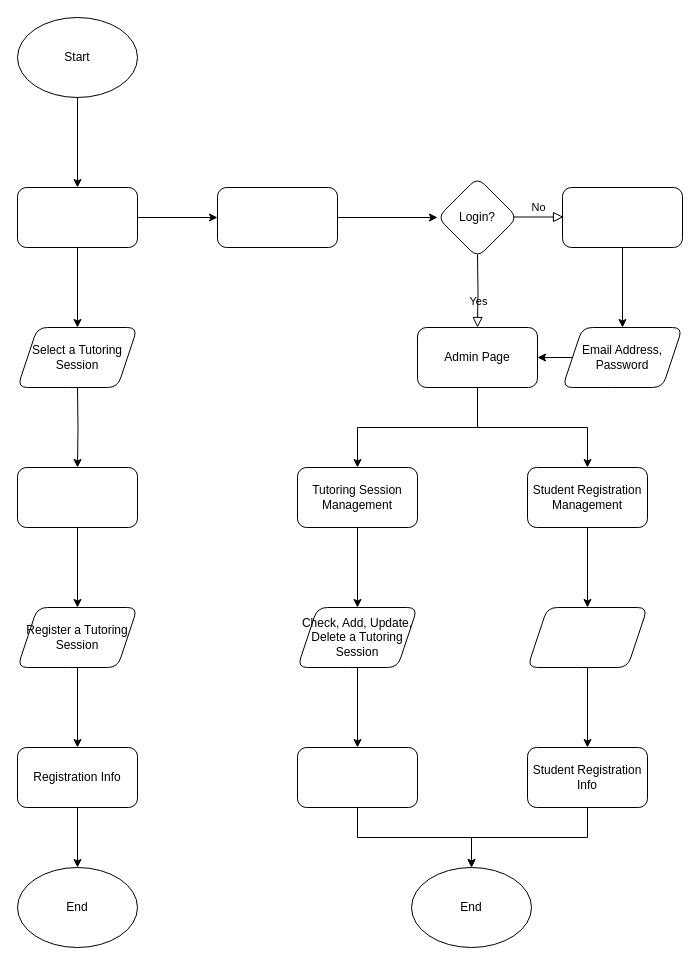
The diagram is 700 pixels wide and 965 high, and some of its shapes have lost their labels. The centre of each missing label's shape, as x and y in pixels:
Check the Student Registration: (x=587, y=637)
Enter the Website: (x=77, y=217)
Login: (x=622, y=217)
Tutor Page: (x=277, y=217)
Tutoring Session Detail: (x=77, y=497)
Tutoring Session Info: (x=357, y=777)
